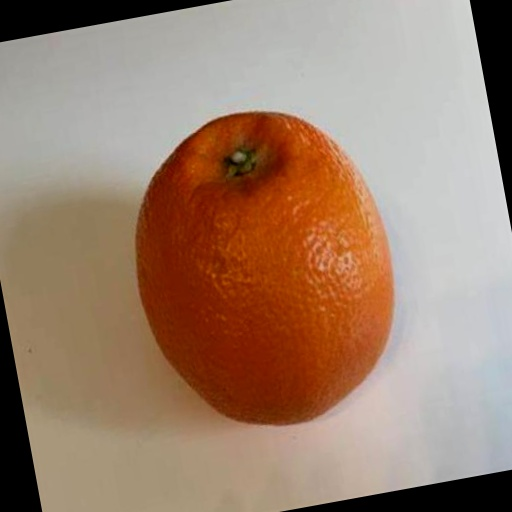fruit: (42, 149, 281, 512)
